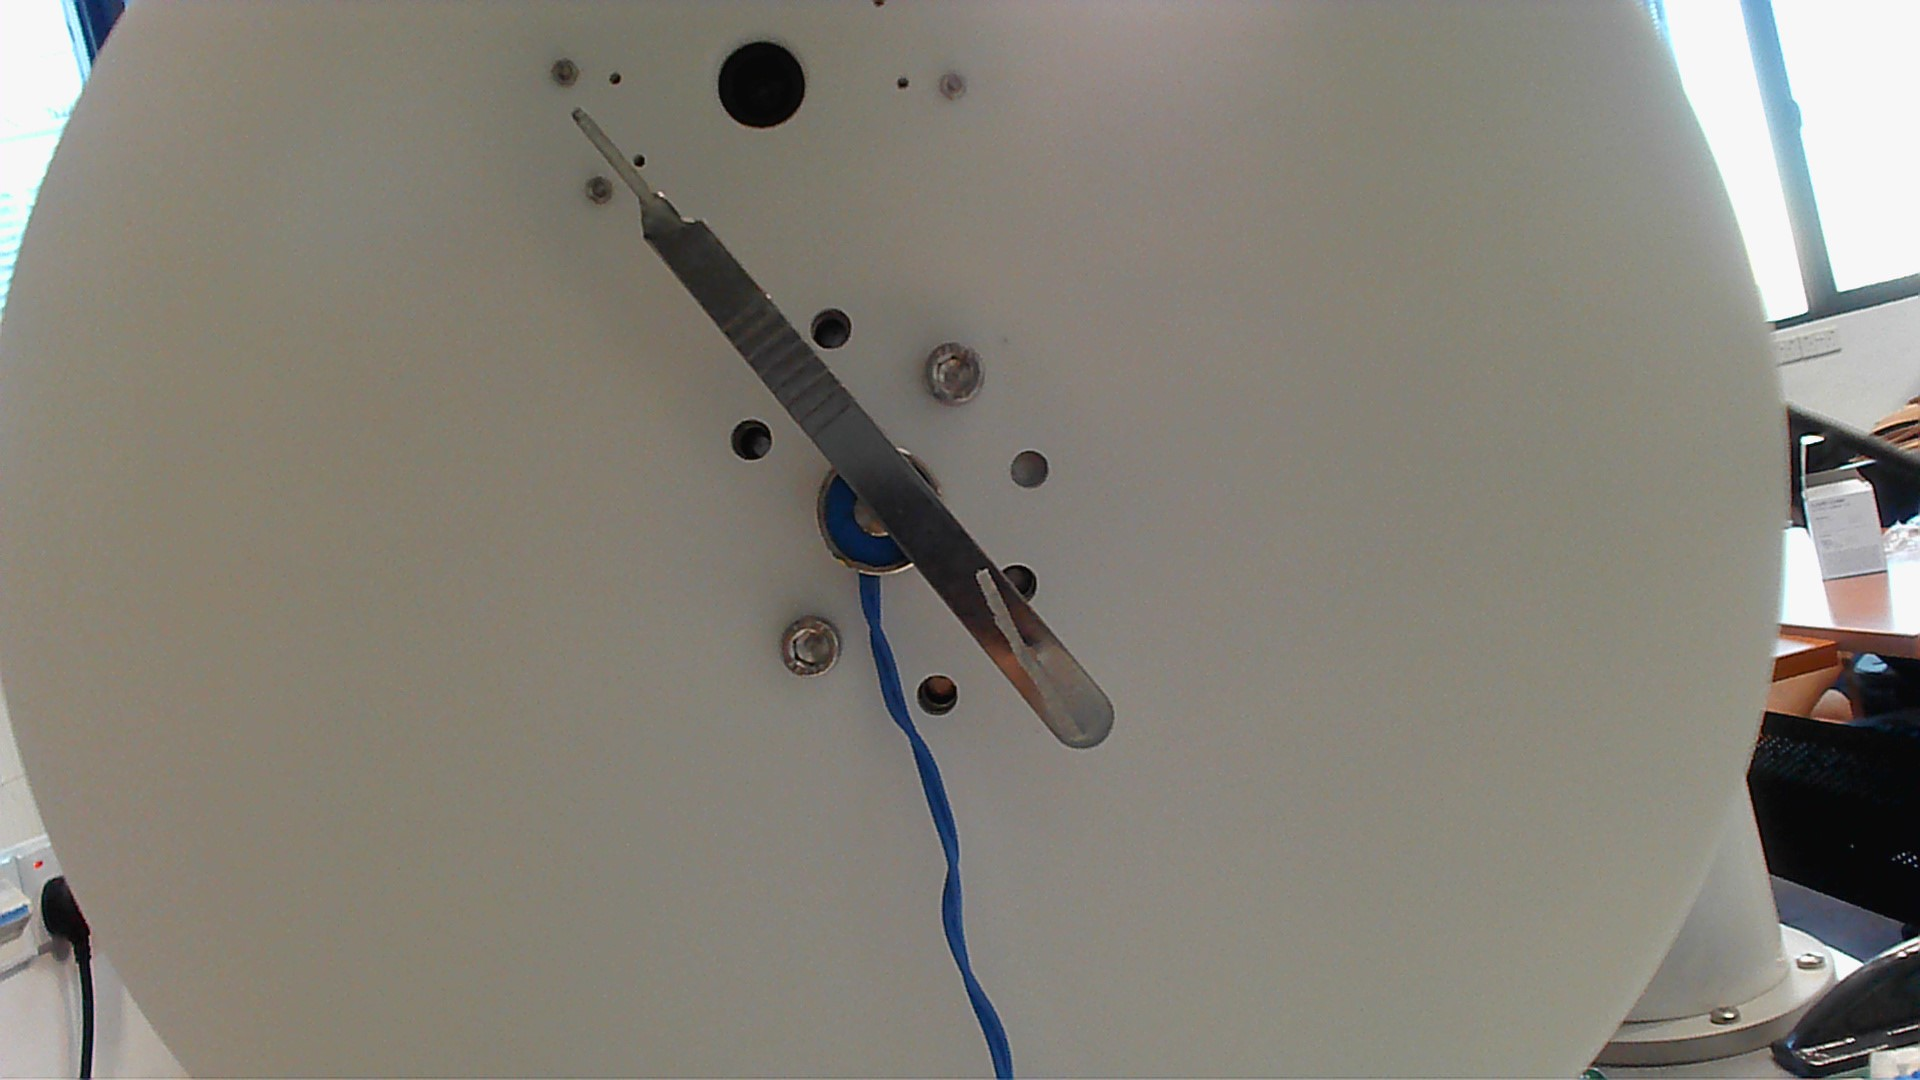Scratches: (967, 555, 1095, 750)
